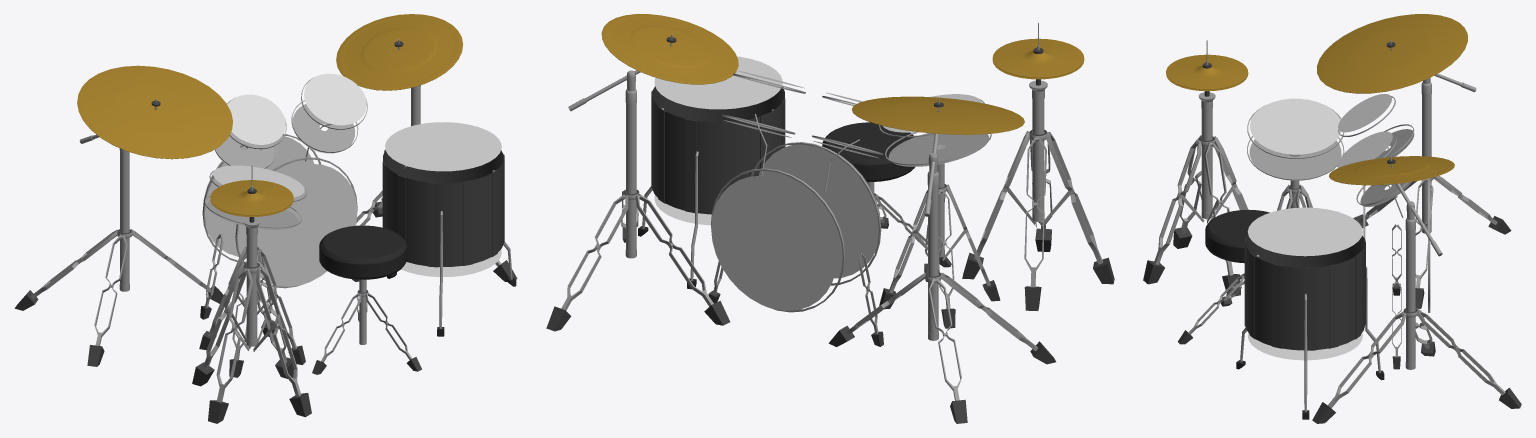
The model's file is drum-kit2.glb.
3 views of the same model, side by side, from view 1: azimuth 30°, elevation 25°; view 2: azimuth 150°, elevation 25°; view 3: azimuth 270°, elevation 25° (orthographic). The views are drawn at different scales.
Parts seen in each view (by area): view 1: Object_5; view 2: Object_5; view 3: Object_5.
Boxes of the visible parts, x1,y1,x2,y2 form: Object_5: (14,14,517,423); Object_5: (546,14,1114,423); Object_5: (1143,14,1521,423).
Bounding box in the file's own units: 17.74 × 9.74 × 14.34.
